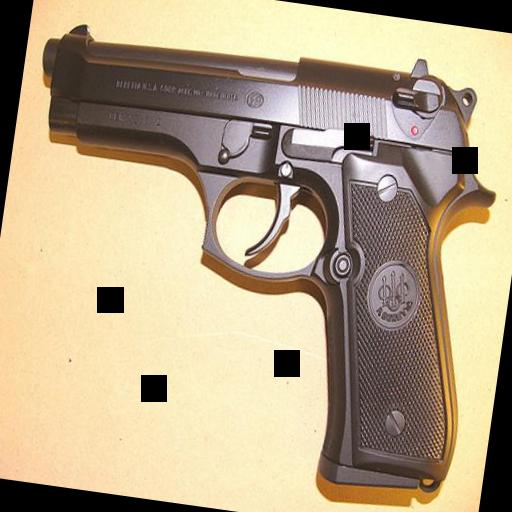Handgun: (0, 3, 512, 496)
